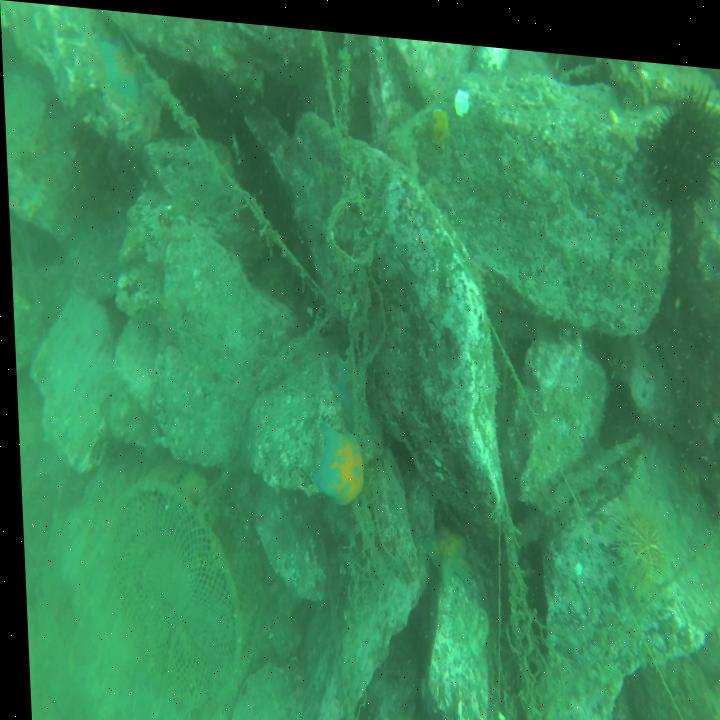echinus: (632, 68, 720, 221), (606, 481, 668, 580)
starfish: (301, 412, 366, 507), (414, 500, 473, 592), (91, 23, 143, 100)
